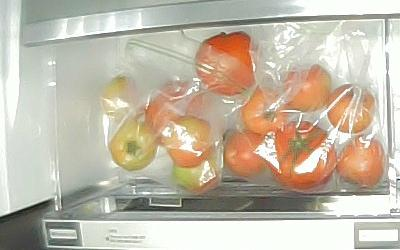tomato_vinyl: (265, 120, 336, 194), (267, 119, 338, 192), (196, 30, 265, 95), (144, 82, 203, 148), (160, 115, 218, 168), (326, 82, 379, 134), (335, 134, 386, 187), (109, 120, 160, 172), (281, 62, 332, 113), (172, 150, 224, 194), (225, 132, 271, 178), (241, 88, 288, 133), (102, 73, 140, 117)
